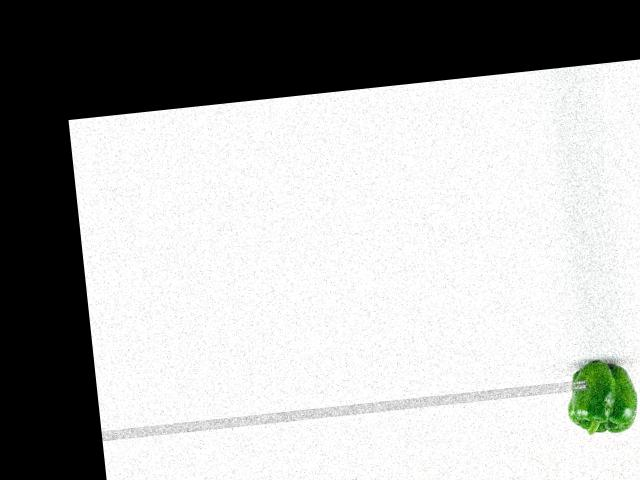bell_pepper: (563, 353, 640, 441)
